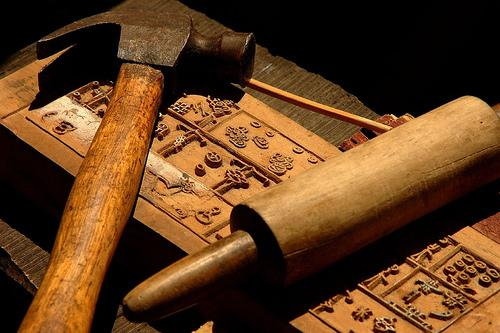hammer: (16, 7, 258, 332)
